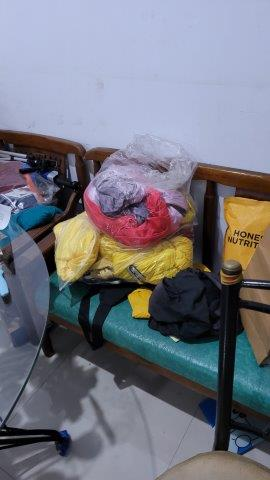plastik: (83, 132, 193, 243)
